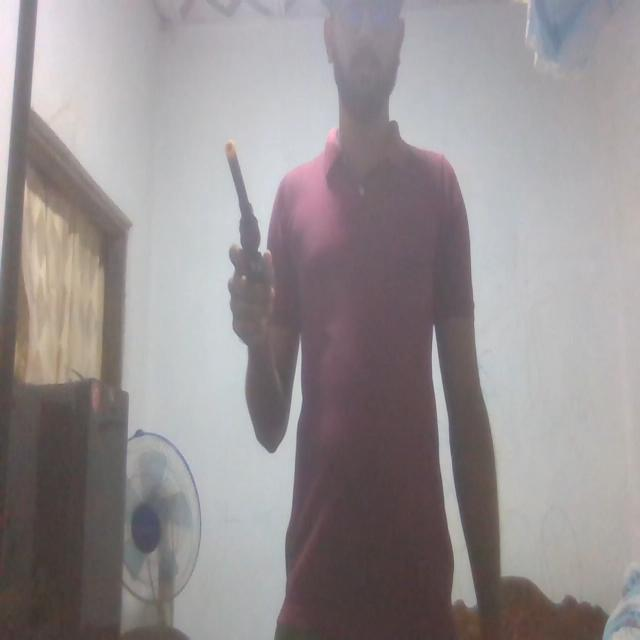Gun_Holder: (215, 142, 272, 312)
Person: (239, 0, 502, 640)
